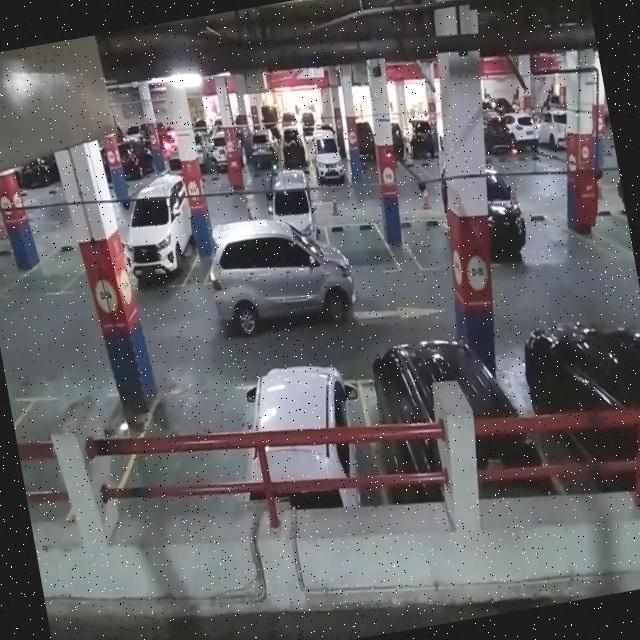empty: (9, 376, 136, 519), (130, 376, 262, 511), (324, 212, 401, 282), (398, 212, 455, 274)
occupied: (355, 338, 533, 508), (233, 358, 386, 517), (117, 177, 203, 296)
